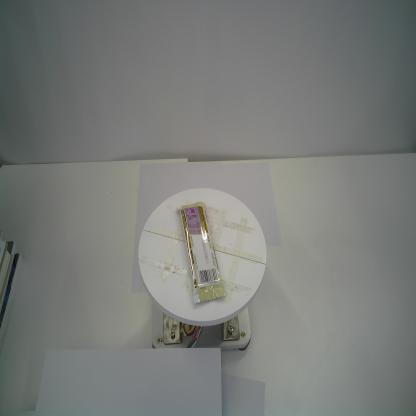Chocolate: (177, 201, 227, 304)
